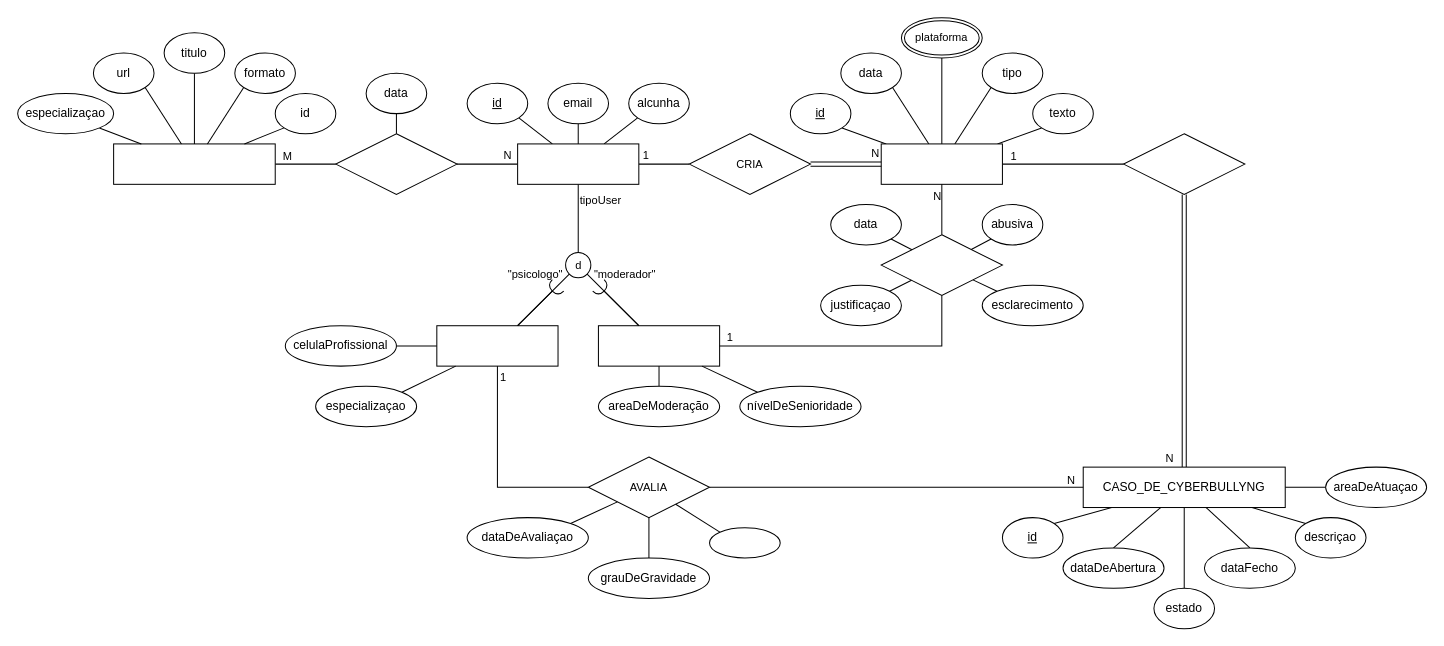
Image size: 1444x646. Some labels were removed from this diagram. The shapes that lost their labels are listed below. From the top down, each one's centre as x and y in pixels, then its label:
At (194,163): "RECURSO_EDUCATIVO".
At (396,163): "CONSULTA".
At (578,163): "UTILIZADOR".
At (941,163): "INTERAÇÃO".
At (1184,163): "ORIGINA".
At (941,264): "ANALISA".
At (497,345): "PSICOLOGO".
At (658,345): "MODERADOR".
At (744,542): "anotaçao".
